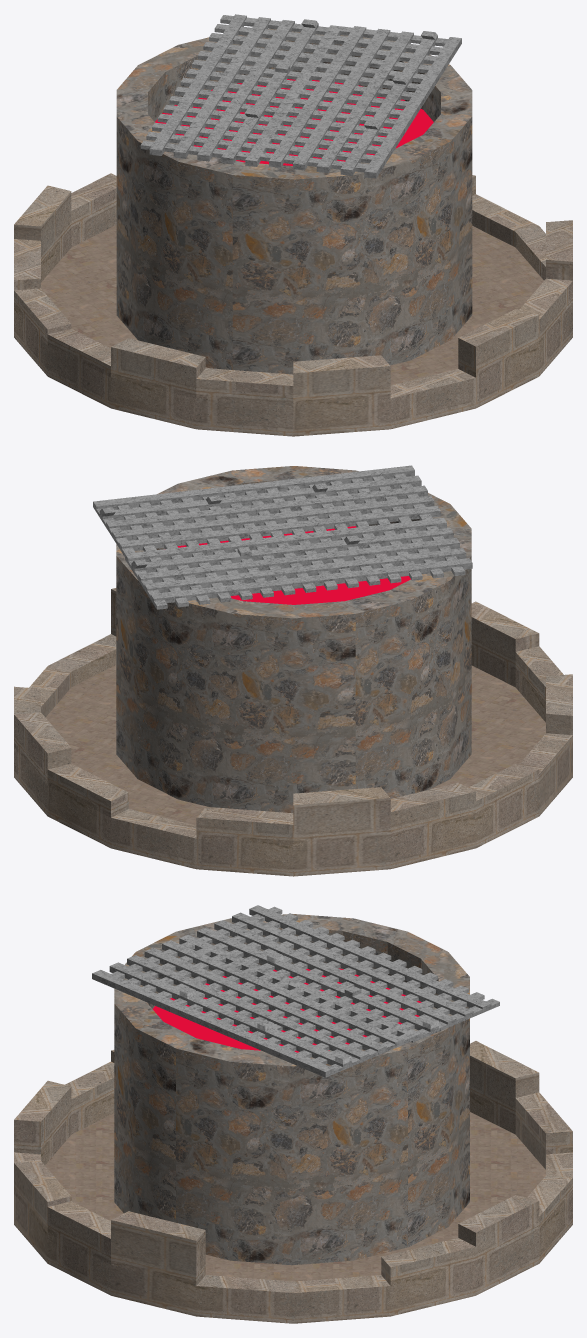
File: OU_AR_Fountain_01_D.fbx
The picture shows the model from 3 angles, top to bottom: view 1: azimuth 30°, elevation 25°; view 2: azimuth 150°, elevation 25°; view 3: azimuth 270°, elevation 25°; orthographic projection.
Parts seen in each view (by area): view 1: Fountain; view 2: Fountain; view 3: Fountain.
Part boxes in pixels (x1,y1,x2,y2): Fountain: [14, 14, 572, 436]; Fountain: [14, 465, 572, 876]; Fountain: [14, 905, 572, 1323].
Bounding box in the file's own units: 358 × 157 × 352.
Materials: 5 (4 with a texture image).
